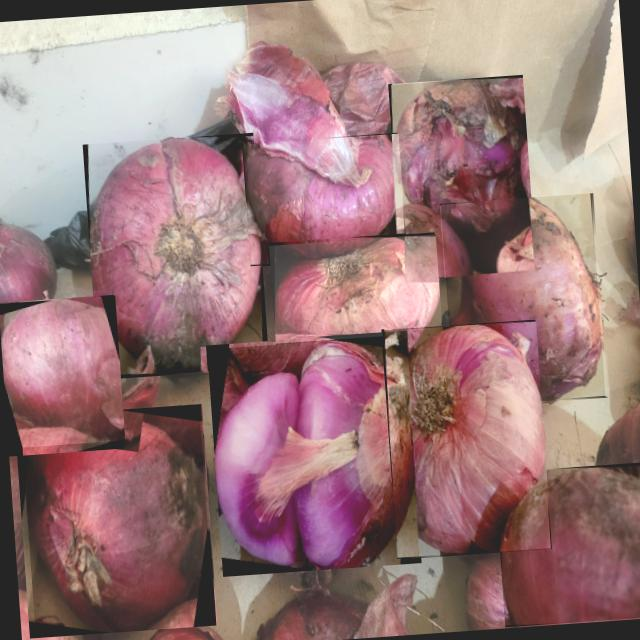healthy: (387, 325, 545, 554)
rotten: (214, 341, 413, 569), (27, 410, 208, 632), (91, 138, 261, 373), (449, 198, 602, 401), (394, 79, 529, 275), (274, 238, 439, 379), (500, 467, 640, 625), (247, 134, 402, 262), (1, 299, 124, 441)
